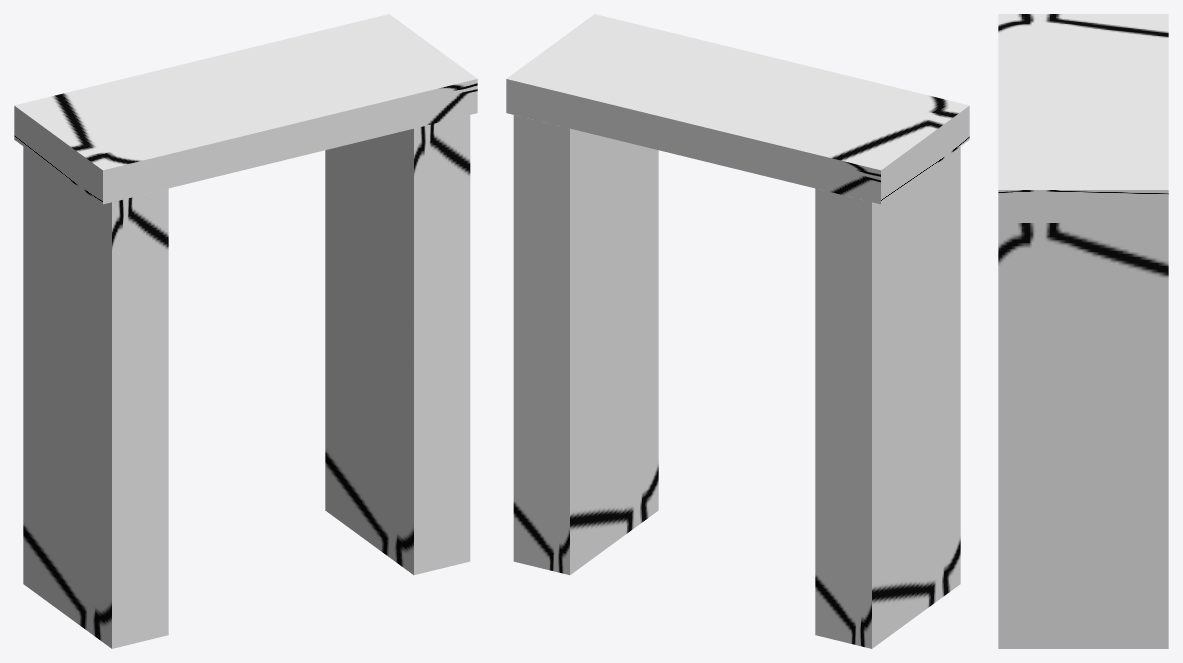
3 views of the same model, side by side, from view 1: azimuth 30°, elevation 25°; view 2: azimuth 150°, elevation 25°; view 3: azimuth 270°, elevation 25° (orthographic). The views are drawn at different scales.
Parts seen in each view (by area): view 1: 046; view 2: 046; view 3: 046.
Part boxes in pixels (x1=…): 046: x1=14, y1=14, x2=477, y2=648; 046: x1=506, y1=14, x2=969, y2=648; 046: x1=998, y1=14, x2=1168, y2=648.
Size of the model in its own units: 2952 by 1209 by 3617.
